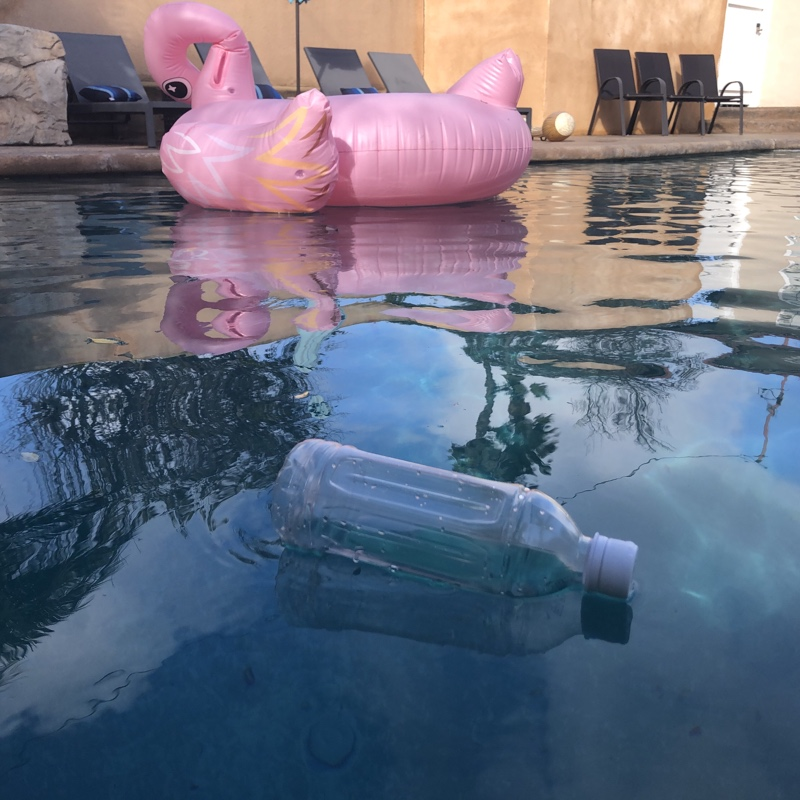Plastic Bottle: (265, 432, 645, 613)
